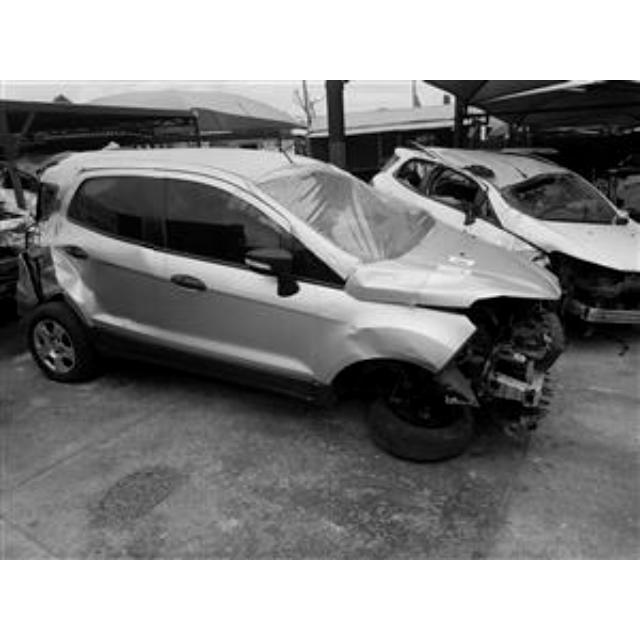Front-windscreen-damage: (511, 168, 630, 225)
bonnet-dent: (387, 226, 559, 309)
fender-dent: (317, 307, 472, 383)
quaterpanel-dent: (16, 214, 73, 310)
